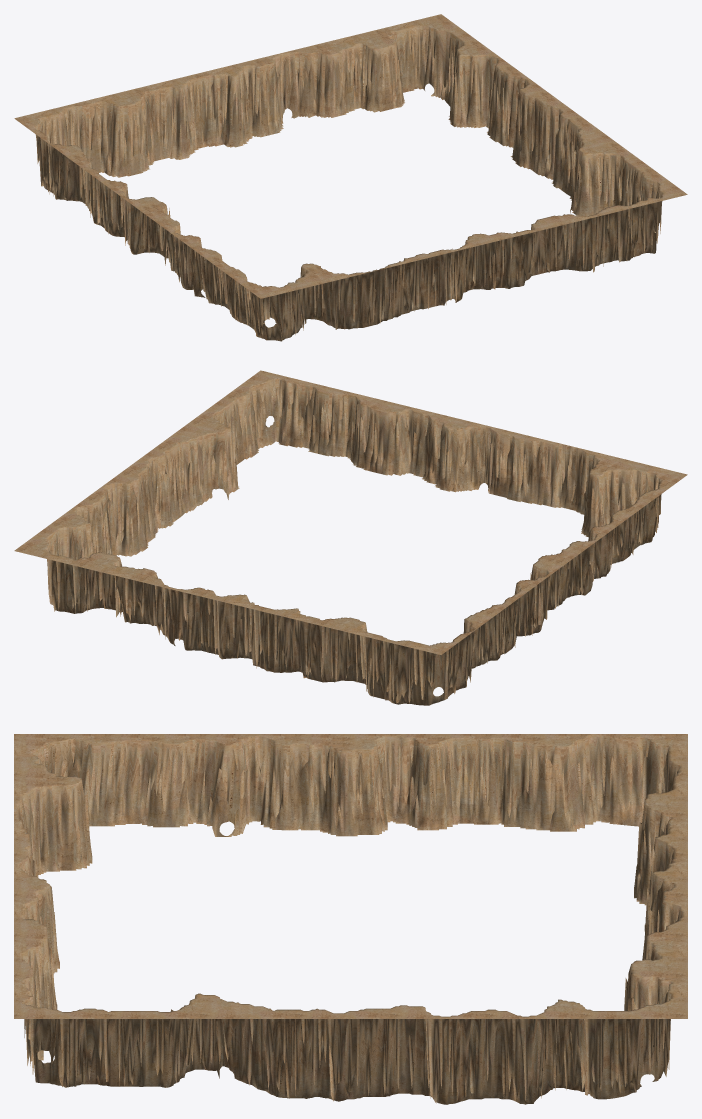
The model's file is canyonWalls.obj.
3 renders of one model, top to bottom at view 1: azimuth 30°, elevation 25°; view 2: azimuth 150°, elevation 25°; view 3: azimuth 270°, elevation 25°, orthographic. The views are drawn at different scales.
Size of the model in its own units: 400 by 61.62 by 400.
